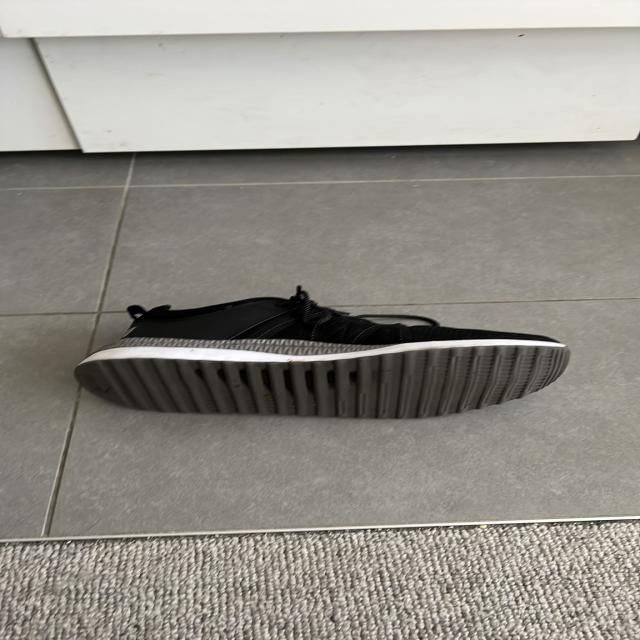shoe: (71, 294, 574, 420)
